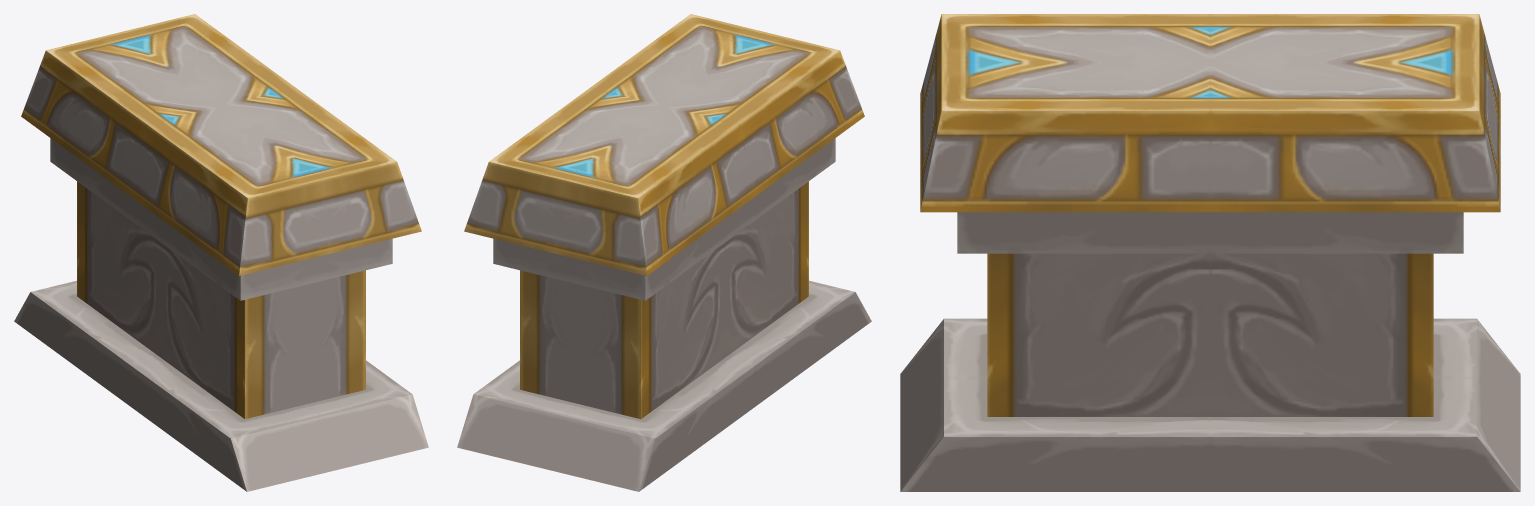
The model's file is zhucheng_dunzi.FBX.
The picture shows the model from 3 angles, left to right: view 1: azimuth 30°, elevation 25°; view 2: azimuth 150°, elevation 25°; view 3: azimuth 270°, elevation 25°; orthographic projection. The views are drawn at different scales.
Parts seen in each view (by area): view 1: zhucheng_dunzi; view 2: zhucheng_dunzi; view 3: zhucheng_dunzi.
Part boxes in pixels (x1,y1,x2,y2): zhucheng_dunzi: (14,14,428,491); zhucheng_dunzi: (457,14,871,491); zhucheng_dunzi: (900,14,1520,491).
Bounding box in the file's own units: 74.47 × 108 × 164.
